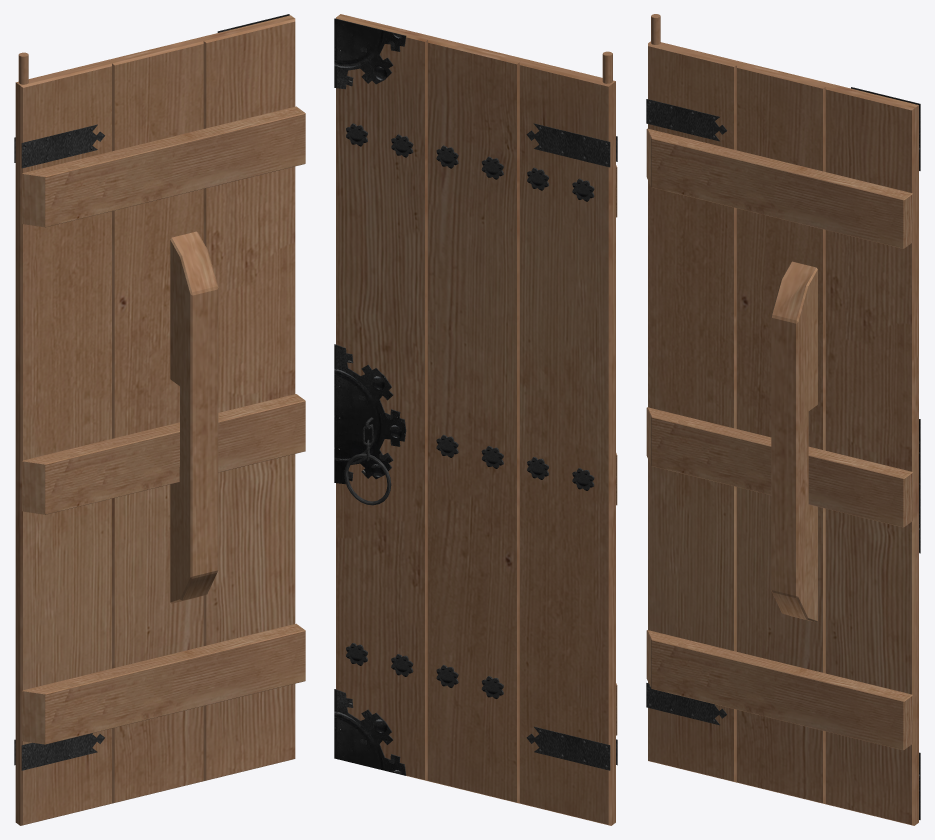
The model's file is SM_Gyedong_Door_04C.fbx.
3 renders of one model, left to right at view 1: azimuth 30°, elevation 25°; view 2: azimuth 150°, elevation 25°; view 3: azimuth 330°, elevation 25°, orthographic. The views are drawn at different scales.
Visible parts, largest first — view 1: SM_Gyedong_Door_04C; view 2: SM_Gyedong_Door_04C; view 3: SM_Gyedong_Door_04C.
Part boxes in pixels (x1,y1,x2,y2): SM_Gyedong_Door_04C: (14, 14, 305, 825); SM_Gyedong_Door_04C: (334, 14, 617, 825); SM_Gyedong_Door_04C: (646, 14, 920, 825).
Bounding box in the file's own units: 58.61 × 156 × 12.84.
